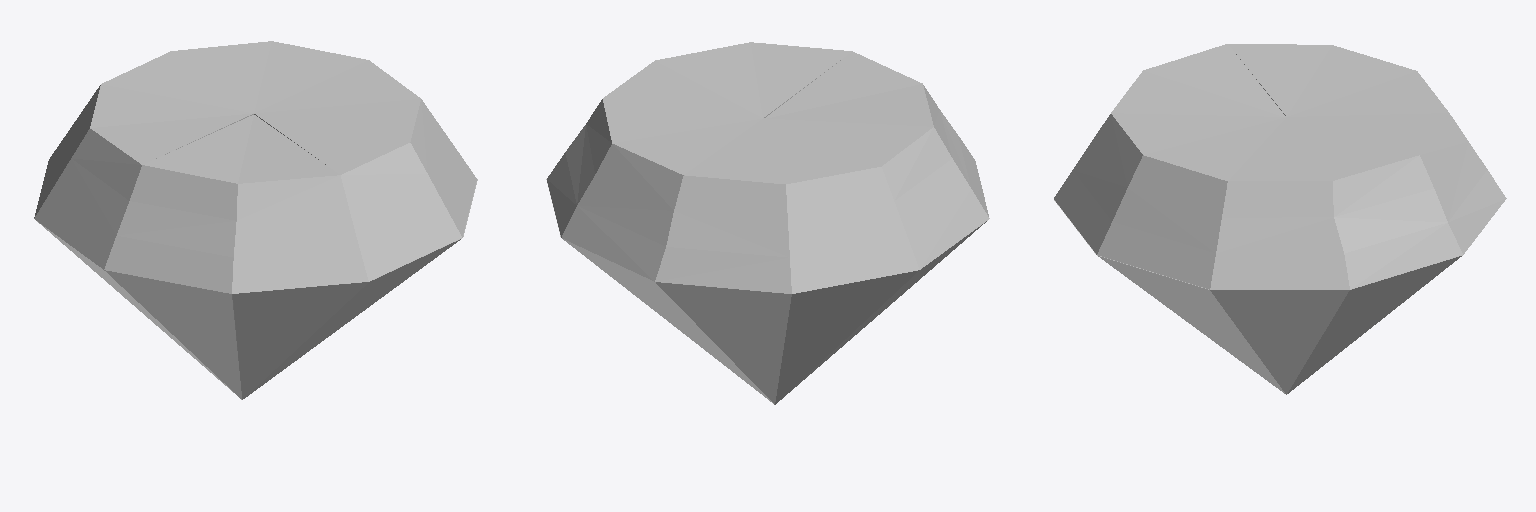
Rendered from diamond.obj.
3 renders of one model, left to right at view 1: azimuth 30°, elevation 25°; view 2: azimuth 150°, elevation 25°; view 3: azimuth 270°, elevation 25°, orthographic.
Visible parts, largest first — view 1: Circle_Circle.001; view 2: Circle_Circle.001; view 3: Circle_Circle.001.
Part boxes in pixels (left/top/right/bottom): Circle_Circle.001: left=34, top=41, right=477, bottom=399; Circle_Circle.001: left=546, top=42, right=989, bottom=404; Circle_Circle.001: left=1054, top=44, right=1506, bottom=394.
Bounding box in the file's own units: 1.91 × 1.4 × 2.